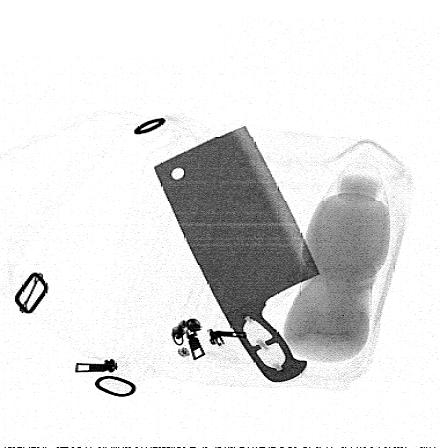Knife: (153, 125, 322, 384)
